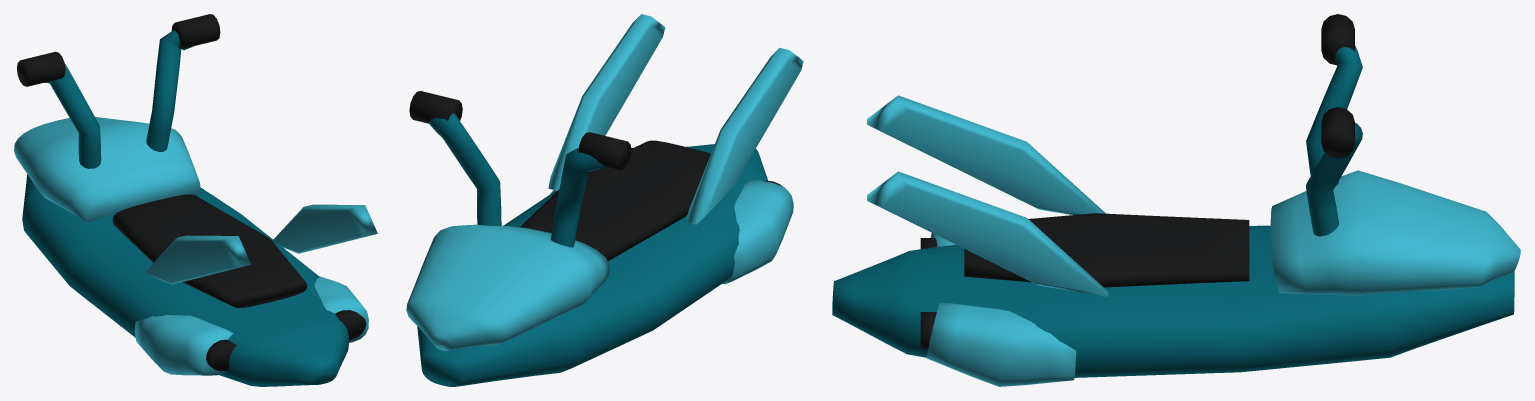
File: Speeder.glb
The picture shows the model from 3 angles, left to right: view 1: azimuth 30°, elevation 25°; view 2: azimuth 150°, elevation 25°; view 3: azimuth 270°, elevation 25°; orthographic projection. The views are drawn at different scales.
Visible parts, largest first — view 1: Body, Nose, RiderDeck, LeftEngine, RightHandle, LeftHandle, LeftTailFin, RightTailFin, RightEngine; view 2: Body, Nose, RiderDeck, LeftTailFin, RightTailFin, LeftEngine, RightHandle, LeftHandle; view 3: Body, Nose, RiderDeck, RightTailFin, LeftTailFin, RightEngine, RightHandle, LeftHandle.
Part boxes in pixels (box(x1,y1,x2,y2)): Body: box(22, 174, 349, 386); Nose: box(14, 117, 200, 222); RiderDeck: box(112, 194, 307, 308); LeftEngine: box(134, 315, 236, 375); RightHandle: box(146, 14, 220, 151); LeftHandle: box(17, 51, 101, 168); LeftTailFin: box(144, 235, 250, 284); RightTailFin: box(272, 204, 377, 253); RightEngine: box(314, 276, 368, 342); Body: box(417, 144, 768, 386); Nose: box(406, 224, 609, 350); RiderDeck: box(520, 140, 710, 260); LeftTailFin: box(686, 47, 803, 224); RightTailFin: box(548, 14, 665, 190); LeftEngine: box(722, 180, 793, 284); RightHandle: box(409, 91, 501, 225); LeftHandle: box(550, 132, 631, 247); Body: box(832, 225, 1514, 377); Nose: box(1270, 170, 1520, 295); RiderDeck: box(964, 213, 1249, 287); RightTailFin: box(867, 171, 1108, 296); LeftTailFin: box(867, 95, 1105, 214); RightEngine: box(920, 302, 1076, 386); RightHandle: box(1306, 107, 1362, 236); LeftHandle: box(1306, 14, 1362, 186).
Size of the model in its own units: 0.627 by 0.6846 by 1.54.
1 material, 1 textured.
